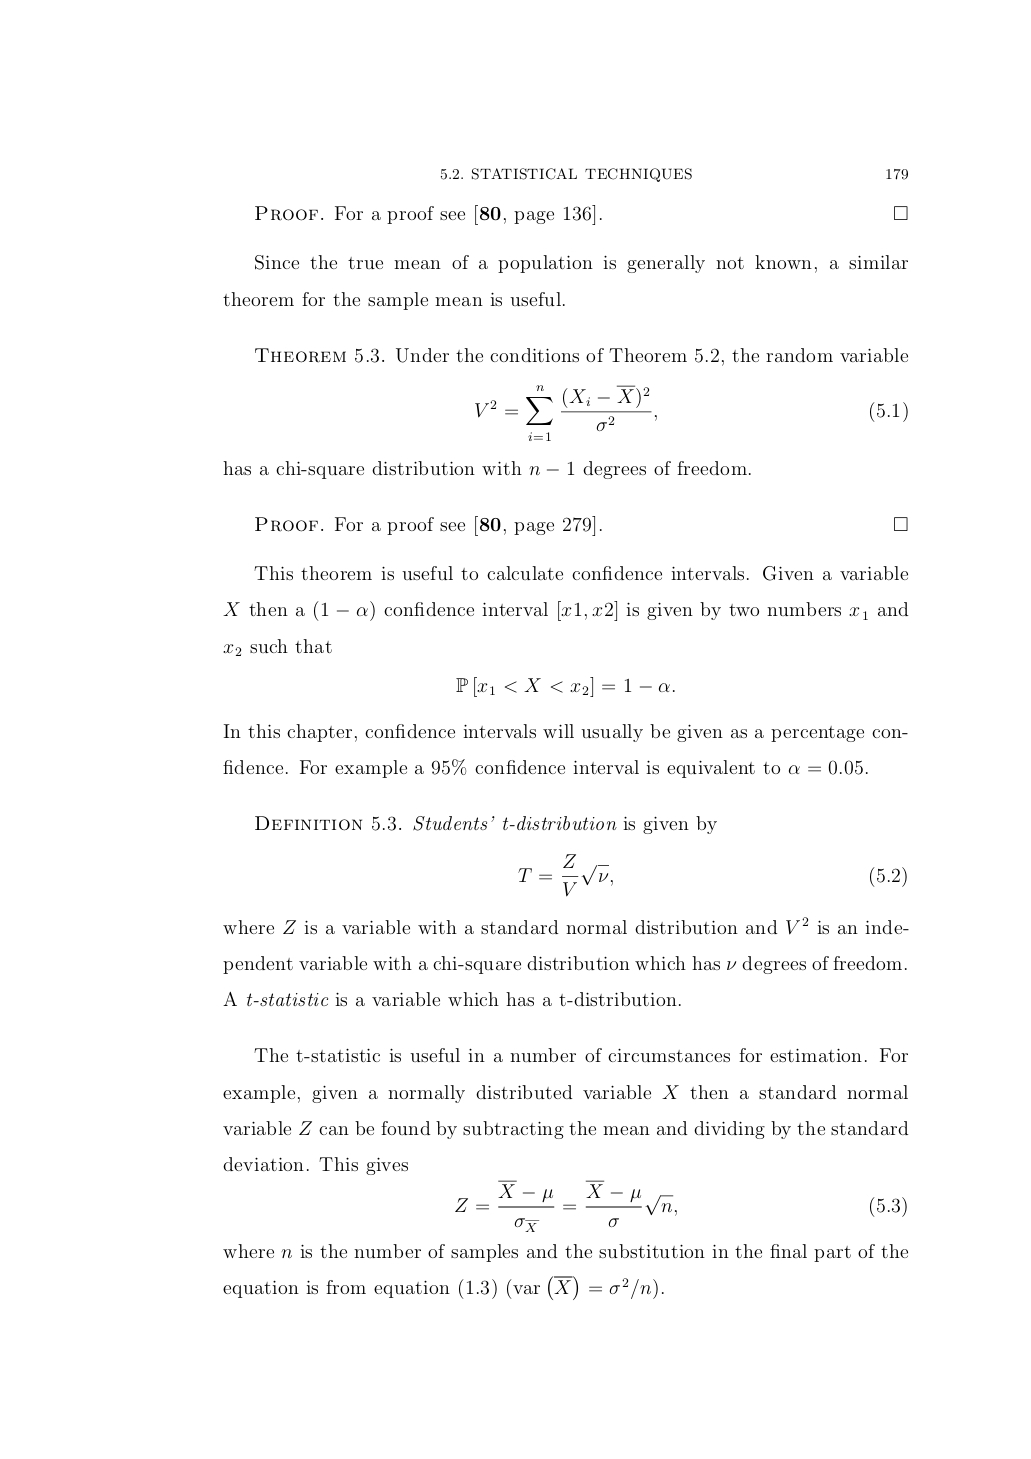formula: (475, 384, 907, 441), (455, 1178, 906, 1231), (518, 853, 906, 897), (456, 675, 674, 697)
